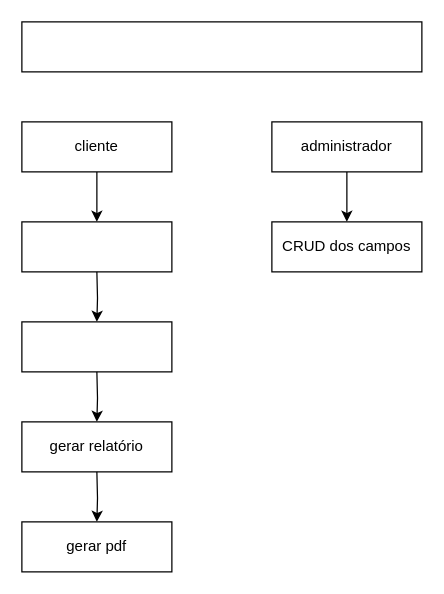
The diagram is 444 pixels wide and 594 high, and some of its shapes have lost their labels. Each missing label, with the centre of its shape:
fazer reserva: (96,346)
Sistema de reservas de campos de futebol: (221,46)
verificar disponibilidade: (96,246)
